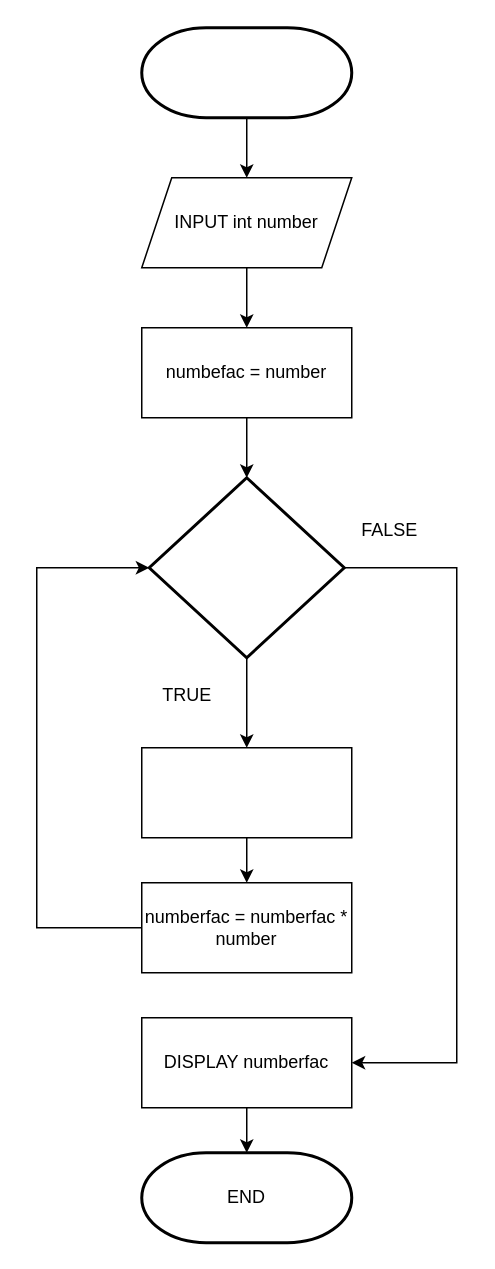
Image size: 495x1269. Some labels were removed from this diagram. Here are the shapes that lost their labels. From the top down, the box of each, then its label:
(140, 26, 352, 118): BEGIN
(147, 476, 345, 658): WHILE number != 1
(140, 746, 352, 838): number = number - 1
